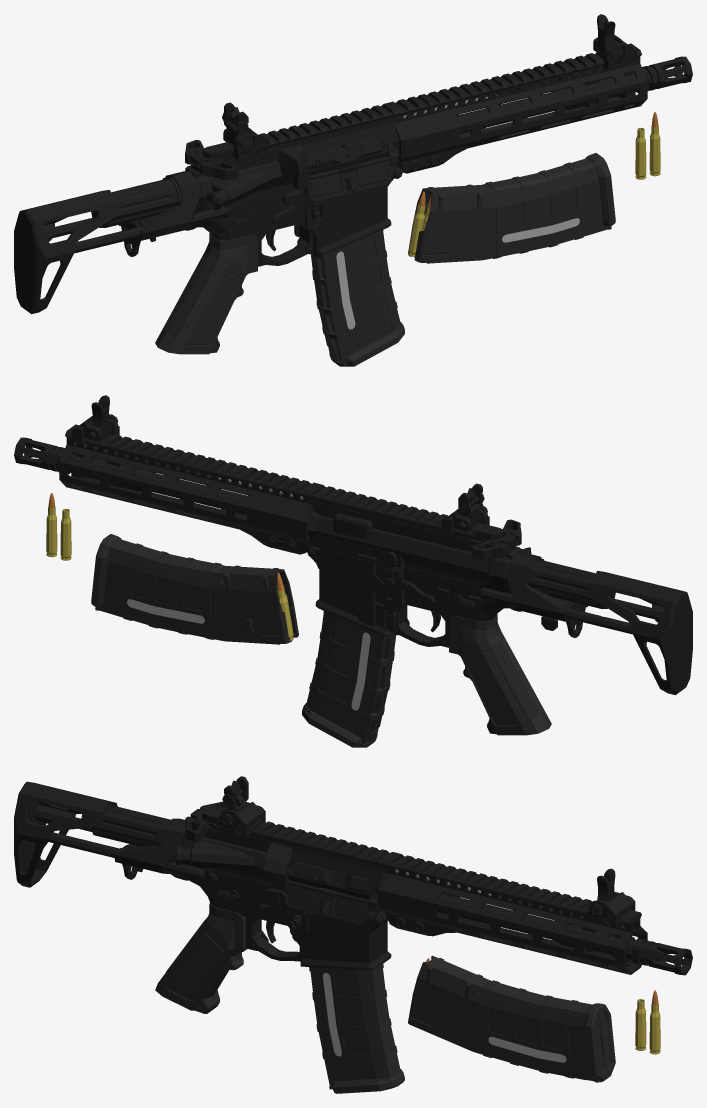
3 renders of one model, top to bottom at view 1: azimuth 30°, elevation 25°; view 2: azimuth 150°, elevation 25°; view 3: azimuth 330°, elevation 25°, orthographic.
Parts seen in each view (by area): view 1: 55645 ar15 30rnd mag (pmag)_18, m5scw handguard_15, m5scw lower_3, m5scw upper_0, 55645 ar15 30rnd mag empty (pmag)_19, m5scw stock_17, m5scw grip_4, m5scw iron sights_20, m5scw dust cover_6, m5scw 10.3in barrel _11, m5scw flash hider_5, m5scw charging handle_16 (+3 smaller); view 2: 55645 ar15 30rnd mag (pmag)_18, m5scw lower_3, m5scw handguard_15, m5scw upper_0, 55645 ar15 30rnd mag empty (pmag)_19, m5scw stock_17, m5scw grip_4, m5scw iron sights_20, m5scw 10.3in barrel _11, m5scw flash hider_5, m5scw charging handle_16, 55645 case_9 (+1 smaller); view 3: 55645 ar15 30rnd mag (pmag)_18, m5scw handguard_15, m5scw lower_3, m5scw upper_0, 55645 ar15 30rnd mag empty (pmag)_19, m5scw stock_17, m5scw grip_4, m5scw iron sights_20, m5scw dust cover_6, m5scw 10.3in barrel _11, m5scw flash hider_5, m5scw bolt_8 (+3 smaller).
Part boxes in pixels (x1,y1,x2,y2): 55645 ar15 30rnd mag (pmag)_18: (408,153,615,263); m5scw handguard_15: (388,43,647,173); m5scw lower_3: (91,165,402,266); m5scw upper_0: (203,103,403,210); 55645 ar15 30rnd mag empty (pmag)_19: (310,229,404,366); m5scw stock_17: (14,189,226,314); m5scw grip_4: (155,233,257,354); m5scw iron sights_20: (222,14,636,161); m5scw dust cover_6: (307,156,391,200); m5scw 10.3in barrel _11: (383,67,638,144); m5scw flash hider_5: (636,56,692,92); m5scw charging handle_16: (185,140,237,180); 55645 ar15 30rnd mag (pmag)_18: (91,534,298,644); m5scw lower_3: (307,546,615,647); m5scw handguard_15: (59,424,318,554); m5scw upper_0: (303,484,531,585); 55645 ar15 30rnd mag empty (pmag)_19: (302,610,396,747); m5scw stock_17: (480,570,692,695); m5scw grip_4: (449,614,551,735); m5scw iron sights_20: (71,395,489,534); m5scw 10.3in barrel _11: (68,443,303,514); m5scw flash hider_5: (14,437,70,473); m5scw charging handle_16: (469,519,521,560); 55645 case_9: (60,508,71,560); 55645 ar15 30rnd mag (pmag)_18: (408,955,615,1082); m5scw handguard_15: (381,853,647,974); m5scw lower_3: (91,805,391,970); m5scw upper_0: (175,808,396,920); 55645 ar15 30rnd mag empty (pmag)_19: (309,964,404,1093); m5scw stock_17: (14,781,205,887); m5scw grip_4: (155,903,247,1013); m5scw iron sights_20: (217,776,635,928); m5scw dust cover_6: (284,880,368,924); m5scw 10.3in barrel _11: (396,869,635,963); m5scw flash hider_5: (632,938,692,975); m5scw bolt_8: (290,862,369,892).
Bounding box in the file's own units: 6.41 × 2.61 × 0.6975.
